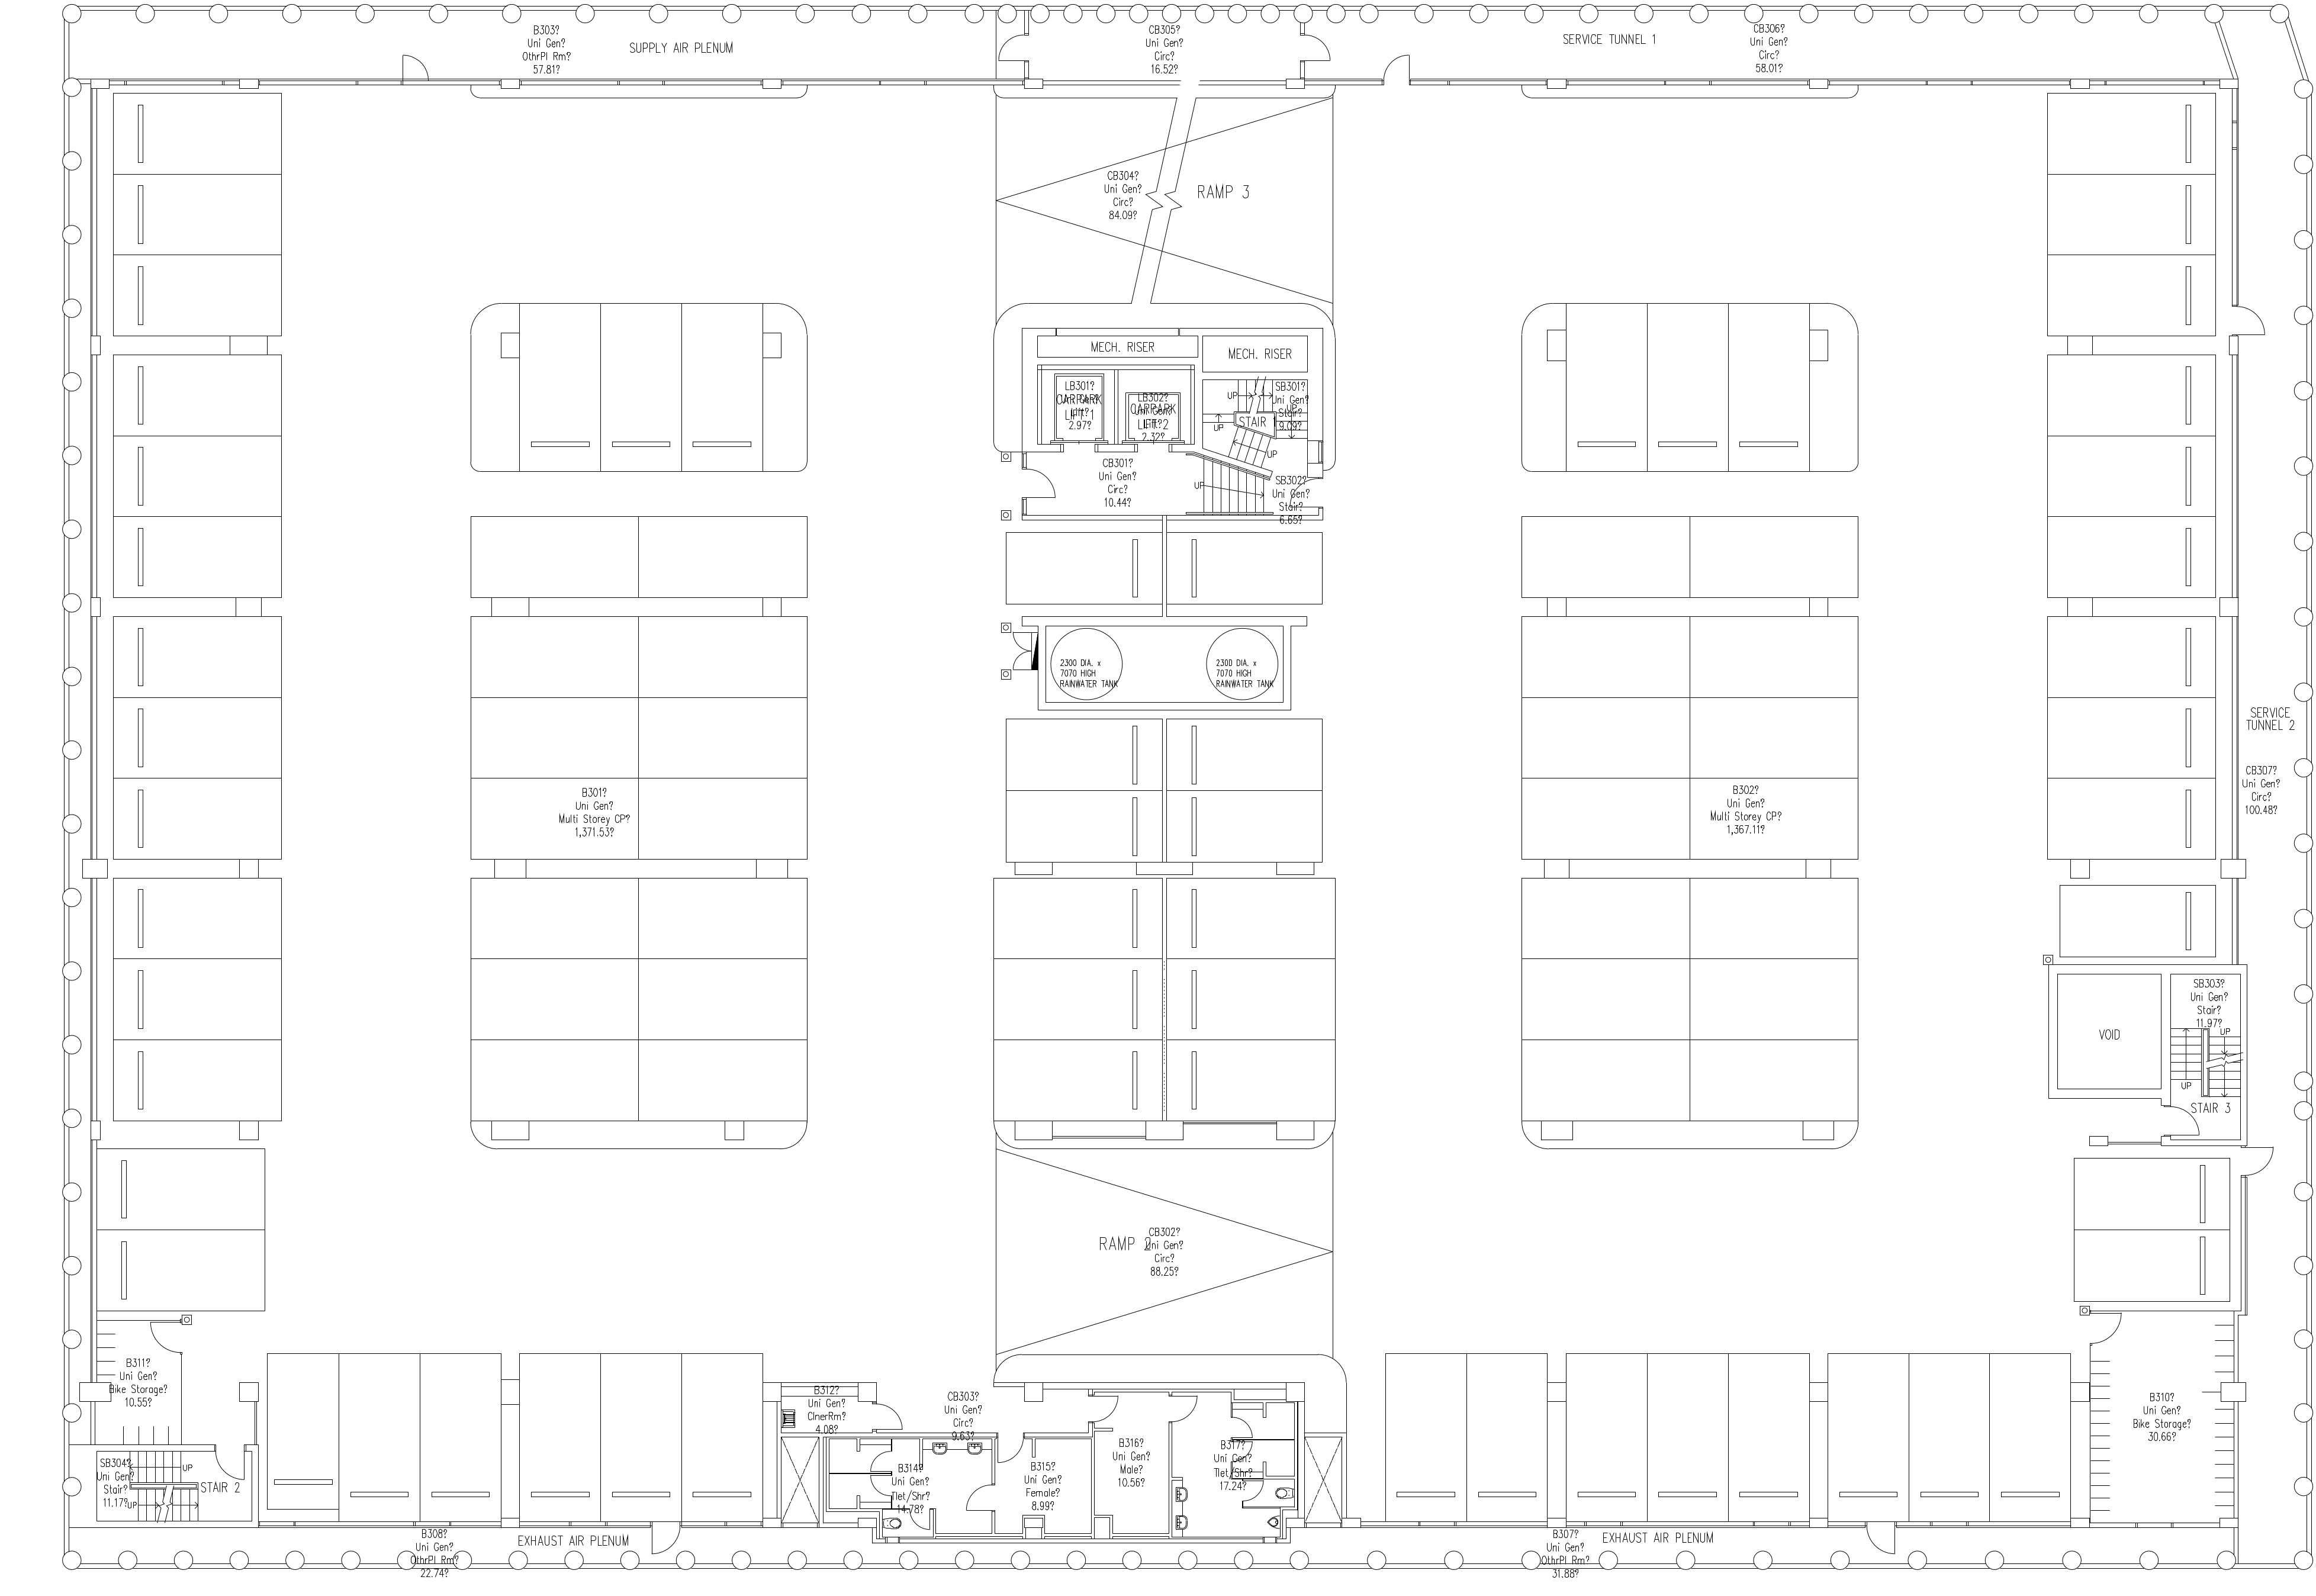door: (2232, 1138, 2305, 1195), (2085, 1300, 2129, 1351), (148, 1316, 192, 1360), (392, 51, 440, 92), (1862, 1513, 1902, 1559), (2158, 1102, 2205, 1140), (211, 1438, 250, 1482), (1021, 461, 1059, 501), (642, 1517, 683, 1556), (1286, 475, 1329, 510), (996, 30, 1035, 67), (1010, 628, 1040, 676), (1297, 30, 1332, 65), (871, 1399, 908, 1432), (1167, 1394, 1204, 1427), (1380, 53, 1418, 84), (994, 1427, 1026, 1466), (963, 1482, 996, 1515), (1086, 1394, 1123, 1424), (1230, 1413, 1262, 1439), (868, 1448, 898, 1475), (1235, 1478, 1265, 1504), (869, 1475, 899, 1499), (906, 1504, 931, 1531)
